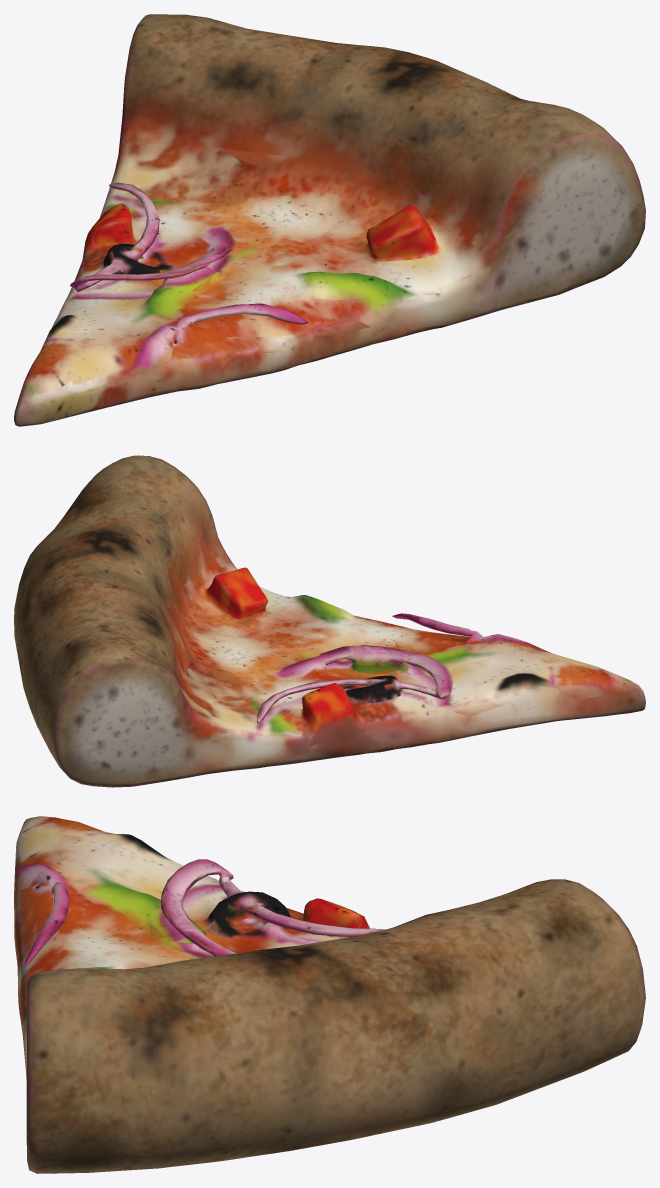
File: SM_Pizza_01d.fbx
The picture shows the model from 3 angles, top to bottom: view 1: azimuth 30°, elevation 25°; view 2: azimuth 150°, elevation 25°; view 3: azimuth 270°, elevation 25°; orthographic projection. The views are drawn at different scales.
Visible parts, largest first — view 1: SM_Pizza_01d_LOD0; view 2: SM_Pizza_01d_LOD0; view 3: SM_Pizza_01d_LOD0.
Part boxes in pixels (x1,y1,x2,y2): SM_Pizza_01d_LOD0: (14, 14, 645, 426); SM_Pizza_01d_LOD0: (14, 455, 645, 787); SM_Pizza_01d_LOD0: (14, 816, 645, 1173).
Bounding box in the file's own units: 16.28 × 12.18 × 4.06.
